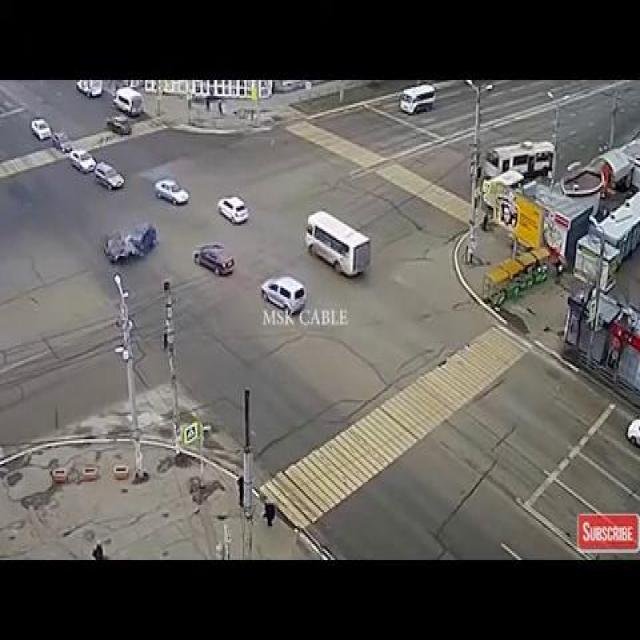accident: (96, 204, 160, 270)
